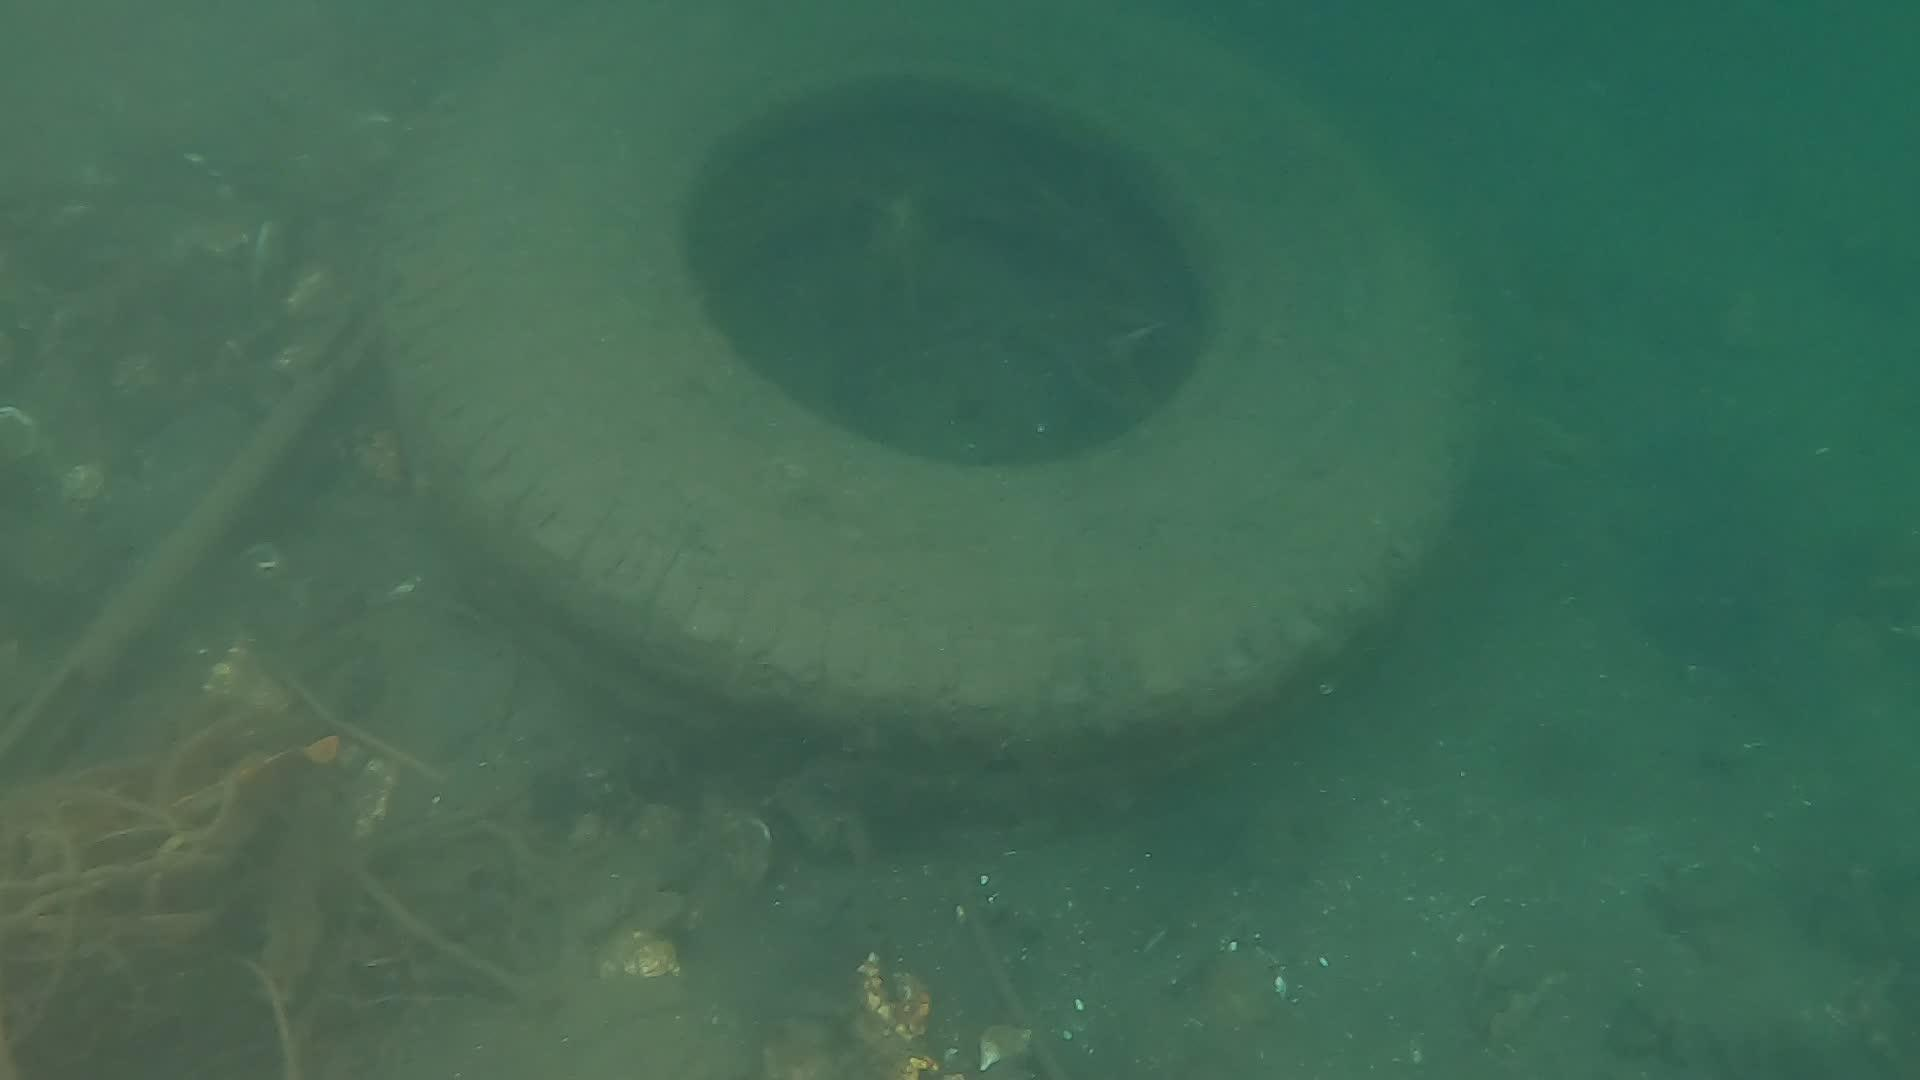tire: (368, 0, 1486, 807)
